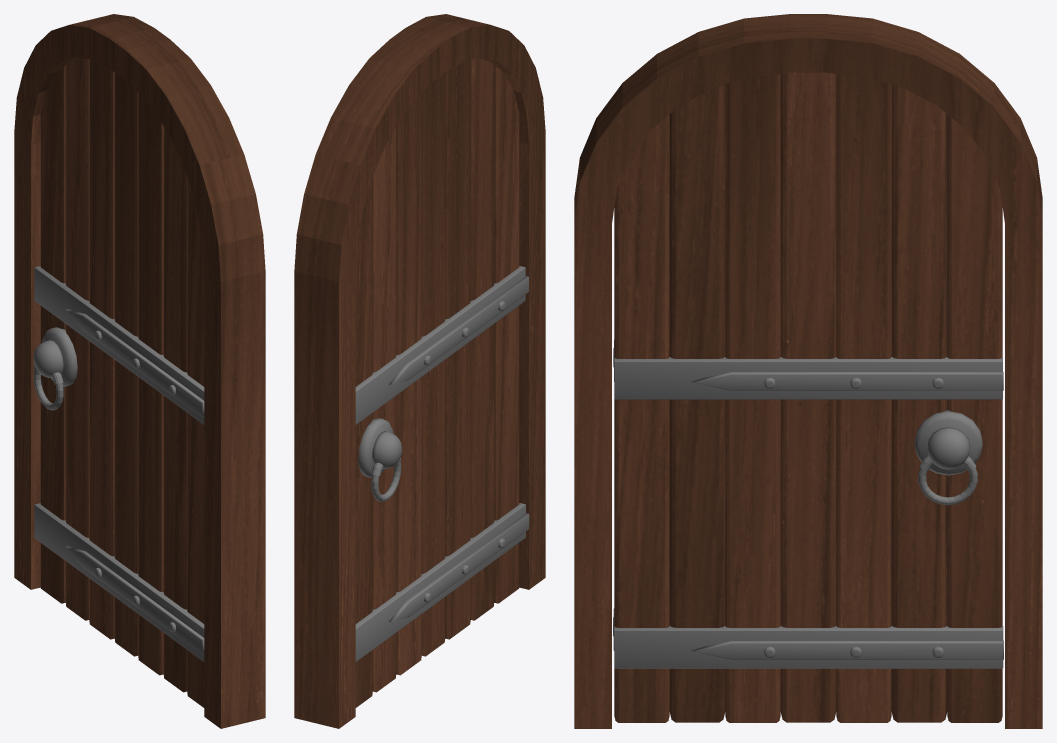
File: Medival Door.glb
3 renders of one model, left to right at view 1: azimuth 30°, elevation 25°; view 2: azimuth 150°, elevation 25°; view 3: azimuth 270°, elevation 25°, orthographic. The views are drawn at different scales.
Visible parts, largest first — view 1: OldDoor, DoorFrame, Door Metal2.001, Door Metal1.001, DoorKnob.001; view 2: OldDoor, DoorFrame, Door Metal2.001, Door Metal1.001, DoorKnob.001; view 3: OldDoor, DoorFrame, Door Metal2, Door Metal1, DoorKnob.
Boxes of the visible parts, box(x1,y1,x2,y2) form: OldDoor: box(40, 58, 204, 707); DoorFrame: box(14, 14, 265, 728); Door Metal2.001: box(34, 503, 204, 661); Door Metal1.001: box(34, 266, 204, 424); DoorKnob.001: box(33, 327, 77, 410); OldDoor: box(355, 58, 519, 707); DoorFrame: box(294, 14, 545, 728); Door Metal2.001: box(355, 503, 529, 661); Door Metal1.001: box(355, 266, 528, 424); DoorKnob.001: box(358, 418, 402, 501); OldDoor: box(614, 72, 1002, 722); DoorFrame: box(574, 14, 1042, 728); Door Metal2: box(614, 626, 1003, 668); Door Metal1: box(614, 357, 1003, 399); DoorKnob: box(914, 410, 982, 505).
Bounding box in the file's own units: 0.6169 × 4.37 × 2.69.
2 materials, 1 textured.
